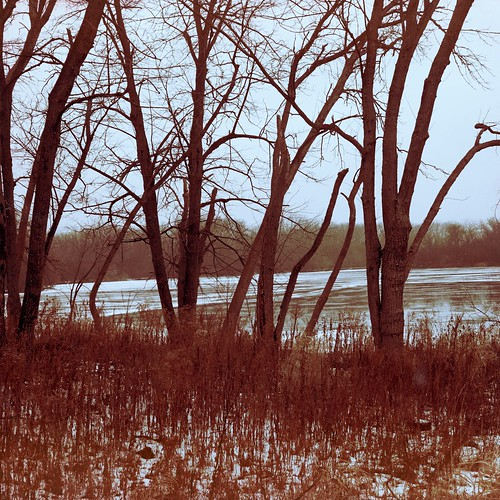sky: (37, 1, 485, 208)
tree: (138, 1, 325, 358), (351, 1, 500, 374), (1, 1, 155, 350)
